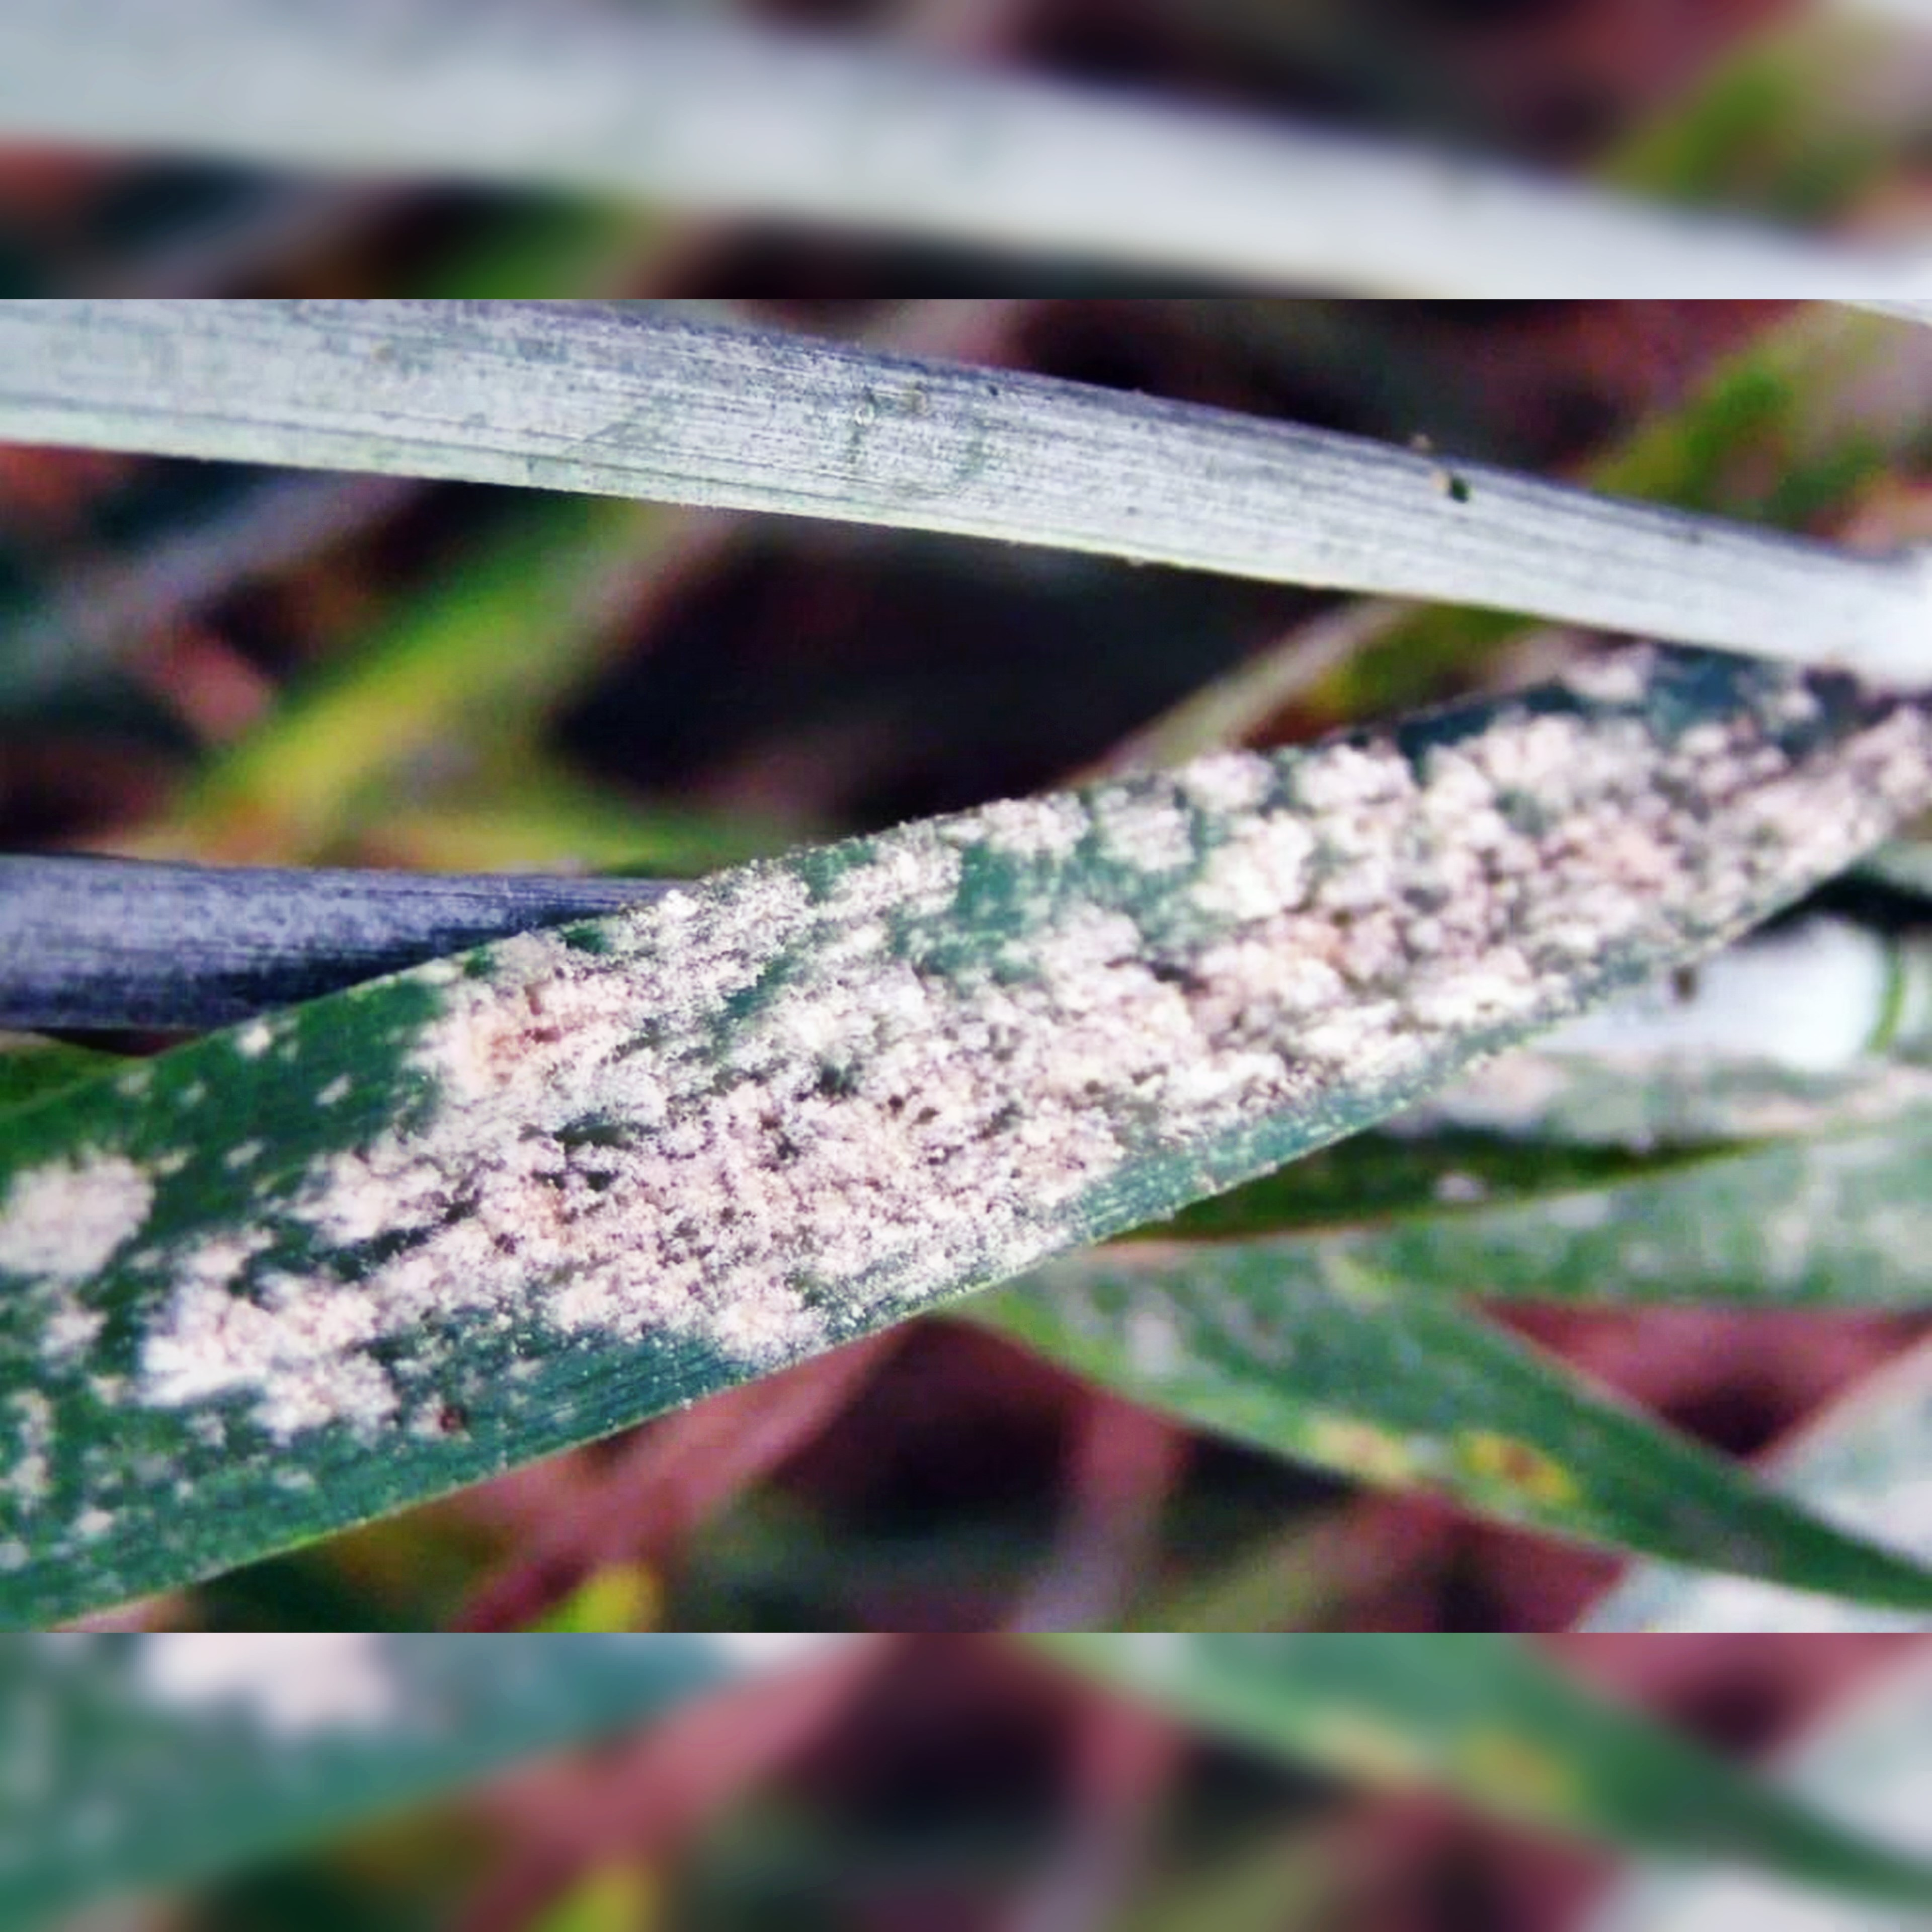Powdery Mildew: (156, 671, 1445, 1509)
